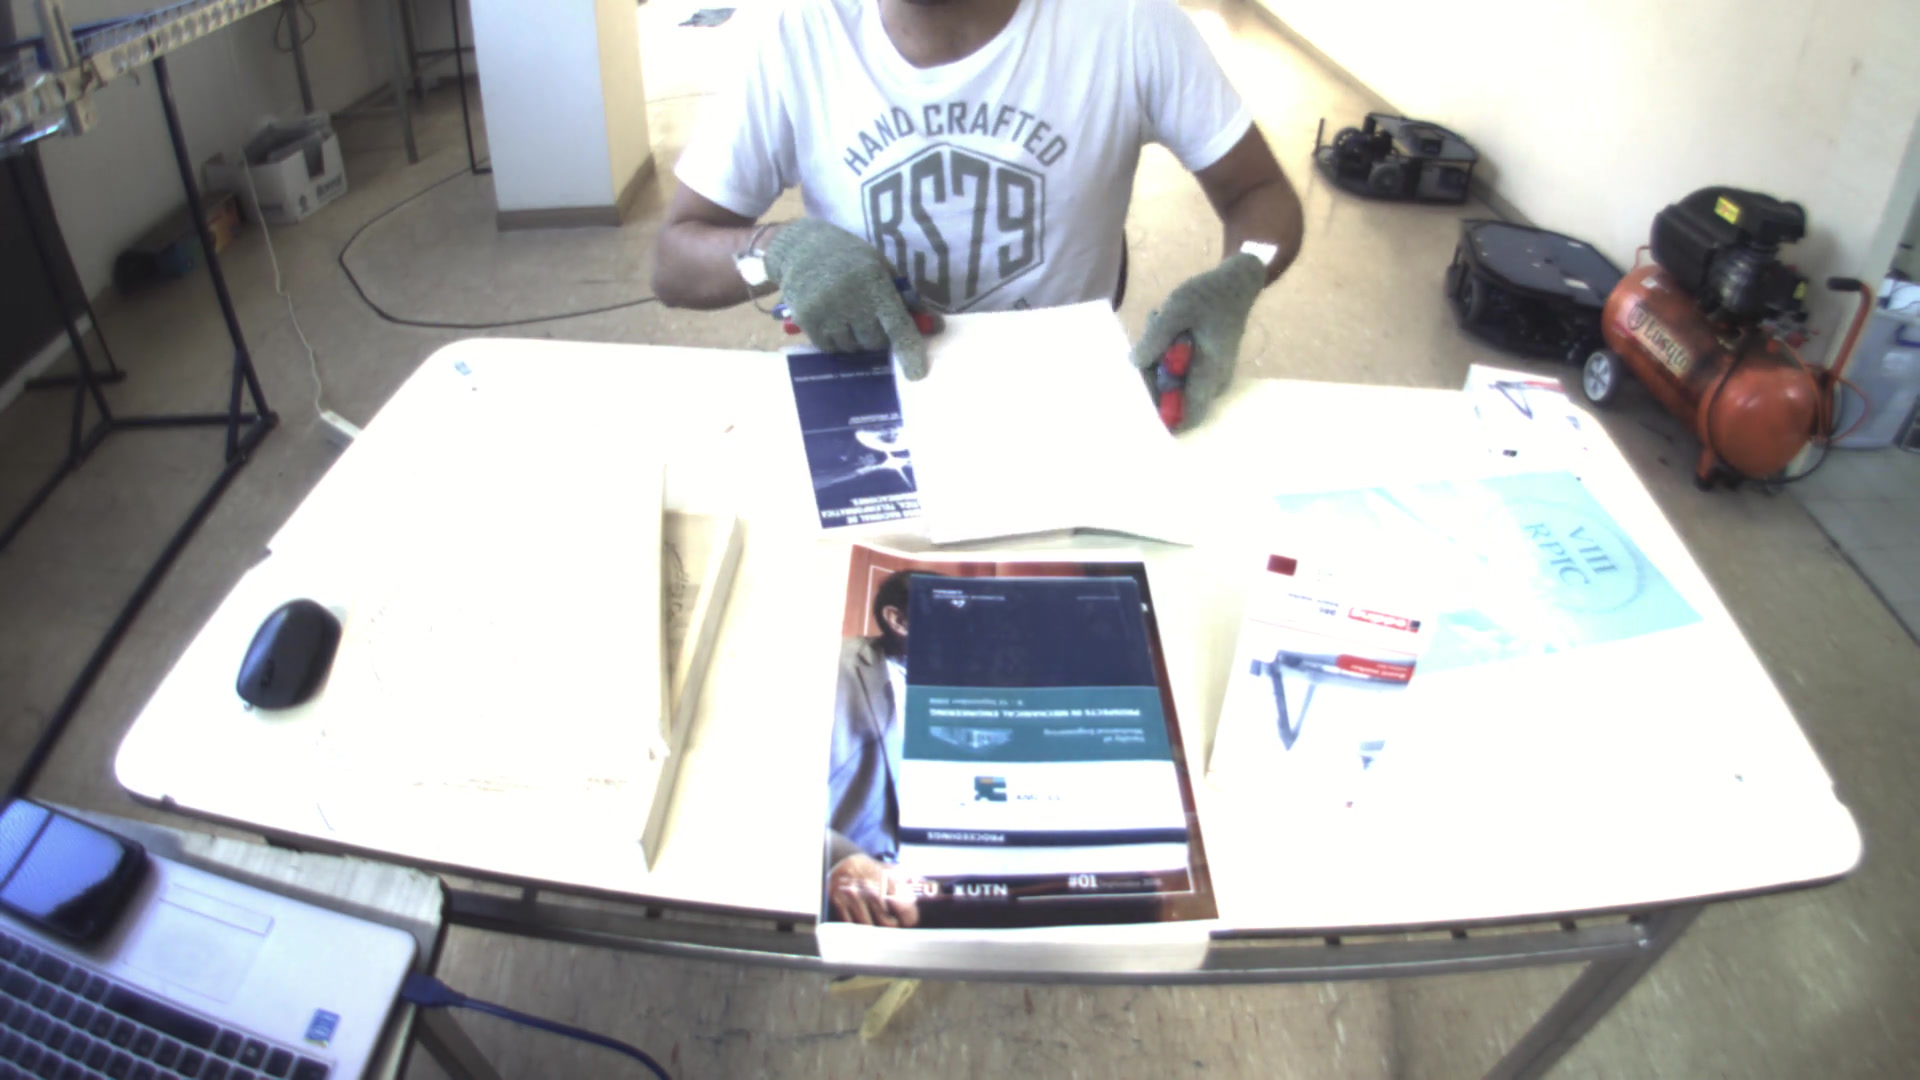hand: (742, 211, 944, 386), (1131, 243, 1282, 429)
